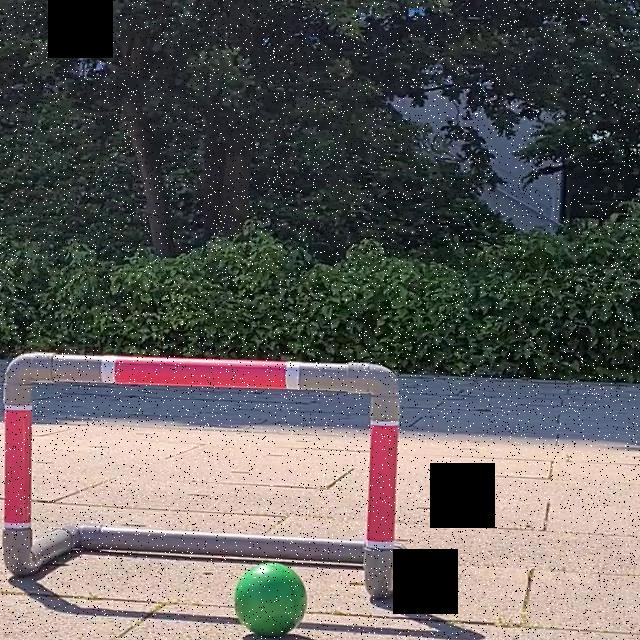ball: (230, 559, 308, 636)
